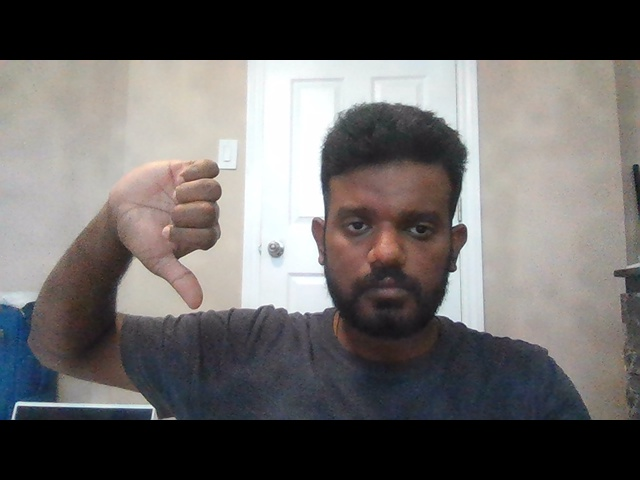no: (103, 156, 232, 312)
